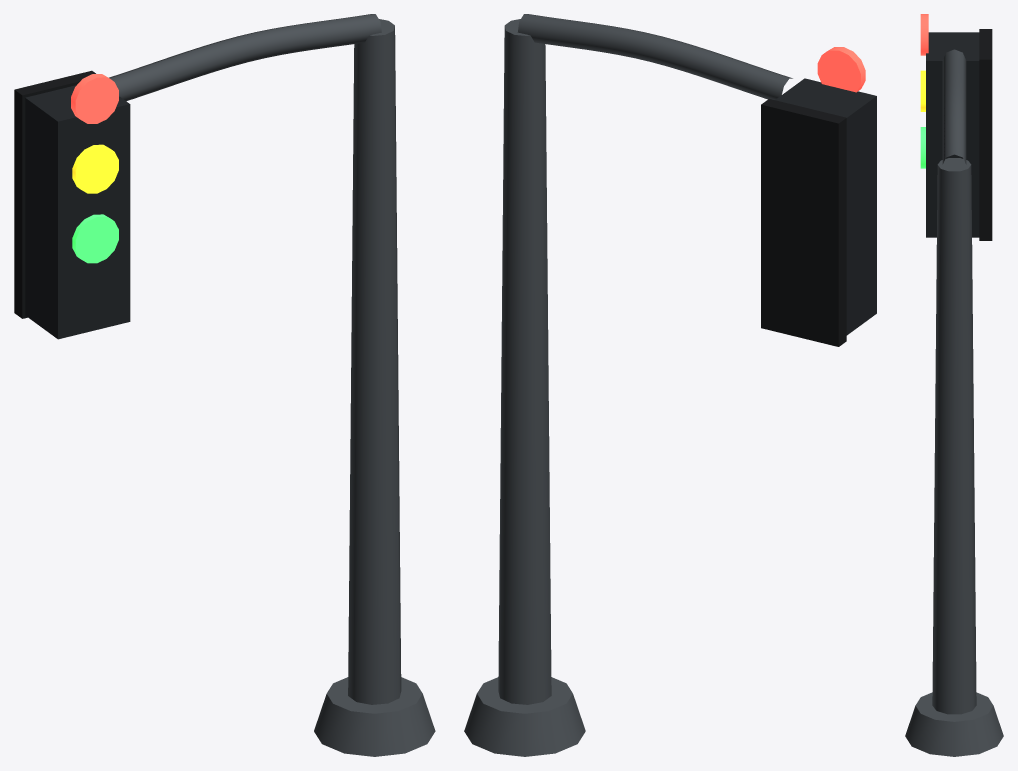
Rendered from traffic-light.glb.
3 renders of one model, left to right at view 1: azimuth 30°, elevation 25°; view 2: azimuth 150°, elevation 25°; view 3: azimuth 270°, elevation 25°, orthographic. The views are drawn at different scales.
Visible parts, largest first — view 1: traffic-light; view 2: traffic-light; view 3: traffic-light.
Boxes of the visible parts, x1,y1,x2,y2 form: traffic-light: (14, 14, 435, 756); traffic-light: (464, 14, 876, 756); traffic-light: (905, 14, 1003, 756).
Bounding box in the file's own units: 2.81 × 5.11 × 0.76.
